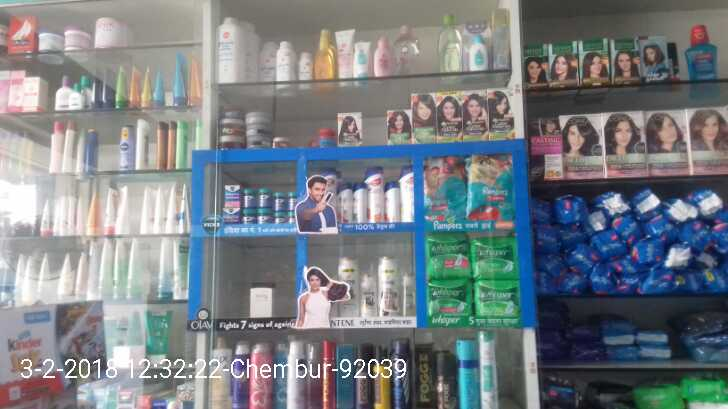vicks: (222, 183, 295, 224)
